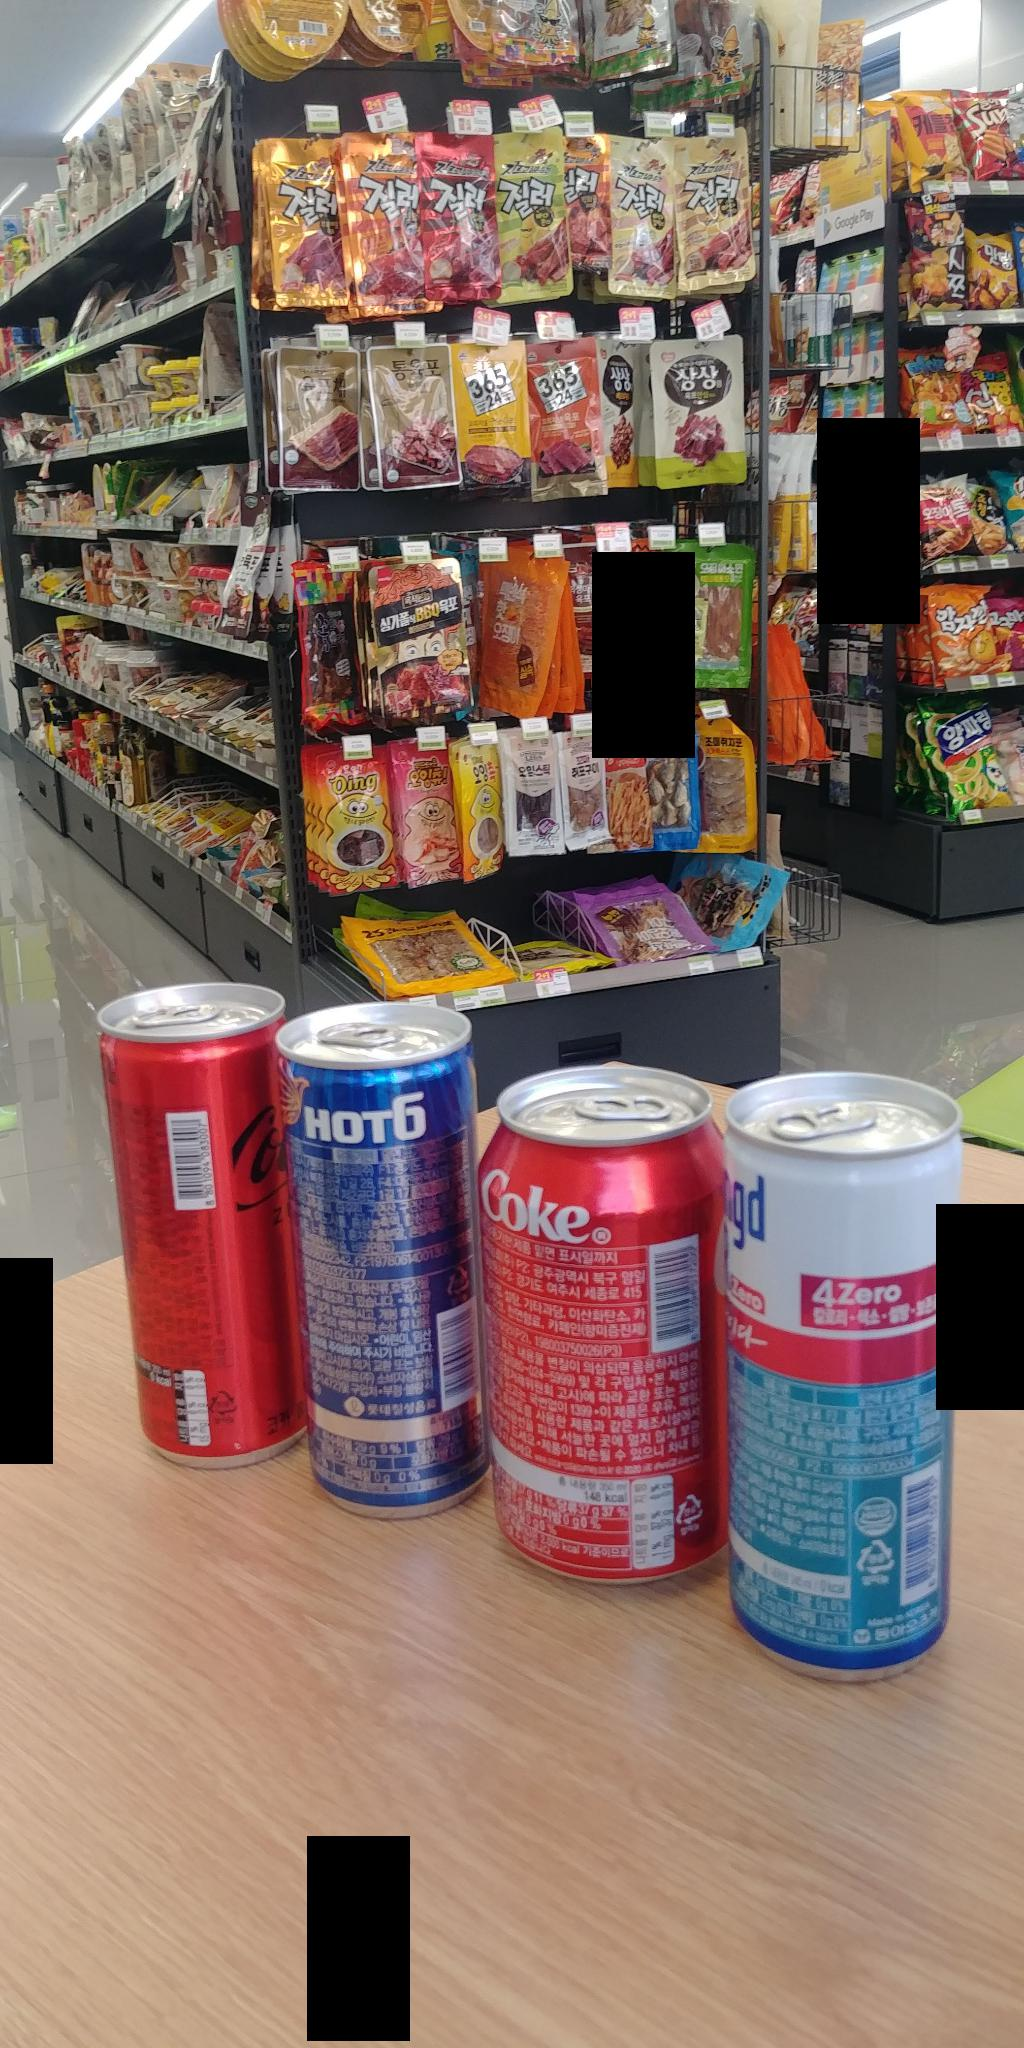cocacola: (495, 1033, 713, 1599)
hotsix_org: (302, 1024, 490, 1502)
narangdcider: (711, 1068, 997, 1664)
